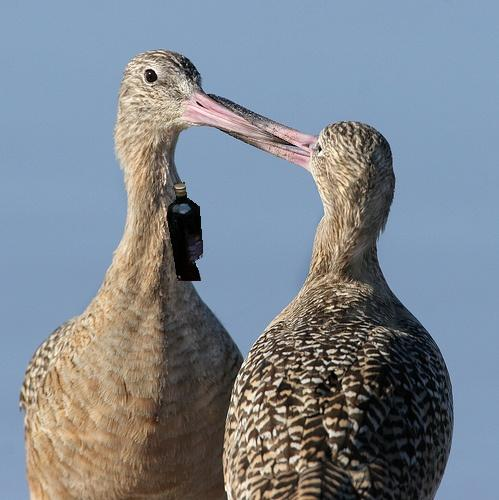tampered: (168, 183, 203, 281)
